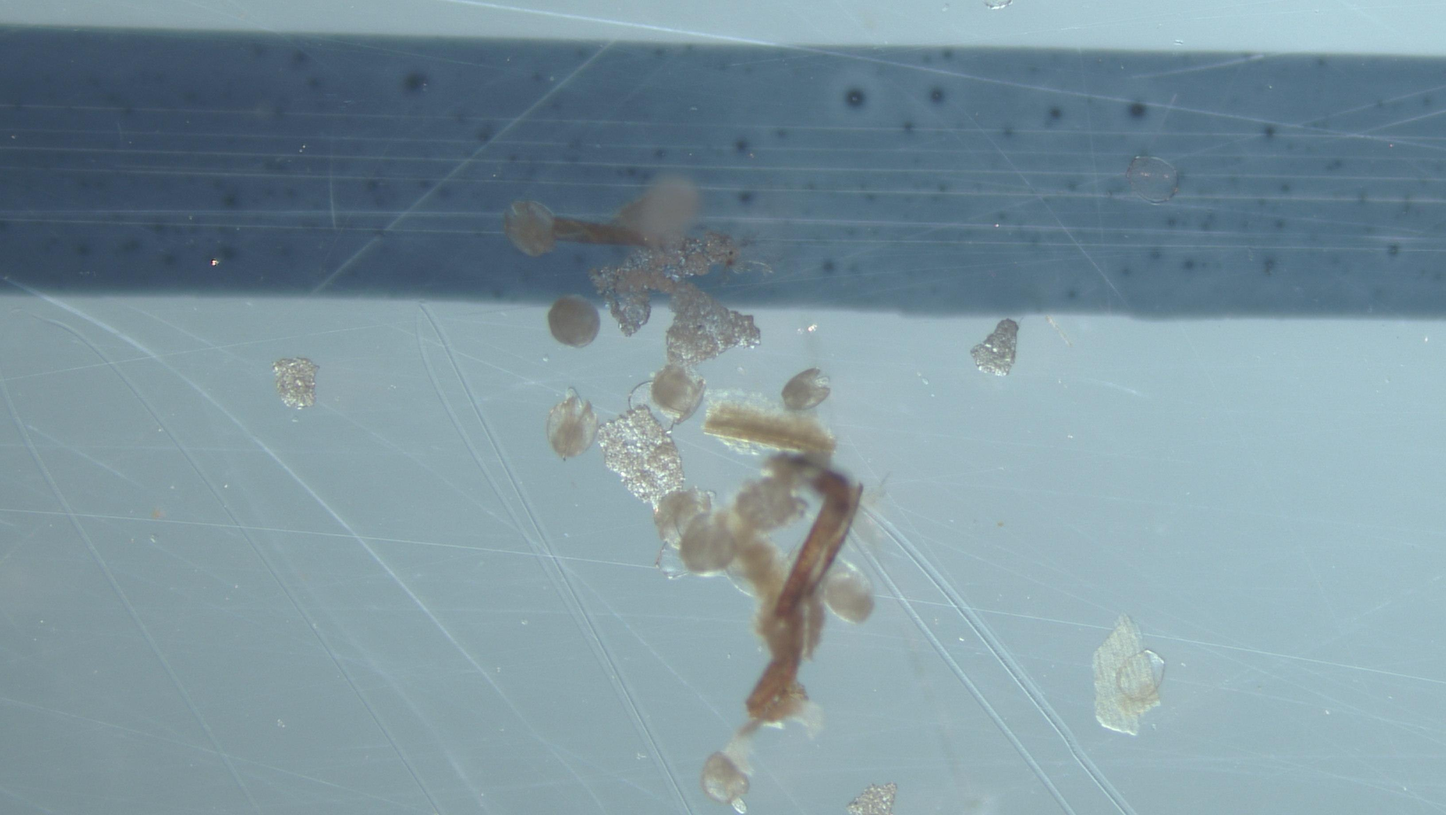dead: (629, 383, 693, 432), (1117, 648, 1166, 705), (656, 536, 687, 578), (703, 492, 712, 508)
live: (680, 511, 733, 573), (548, 394, 599, 458), (650, 369, 705, 424), (548, 296, 600, 348), (824, 568, 873, 623), (505, 203, 556, 255), (782, 369, 831, 413)
